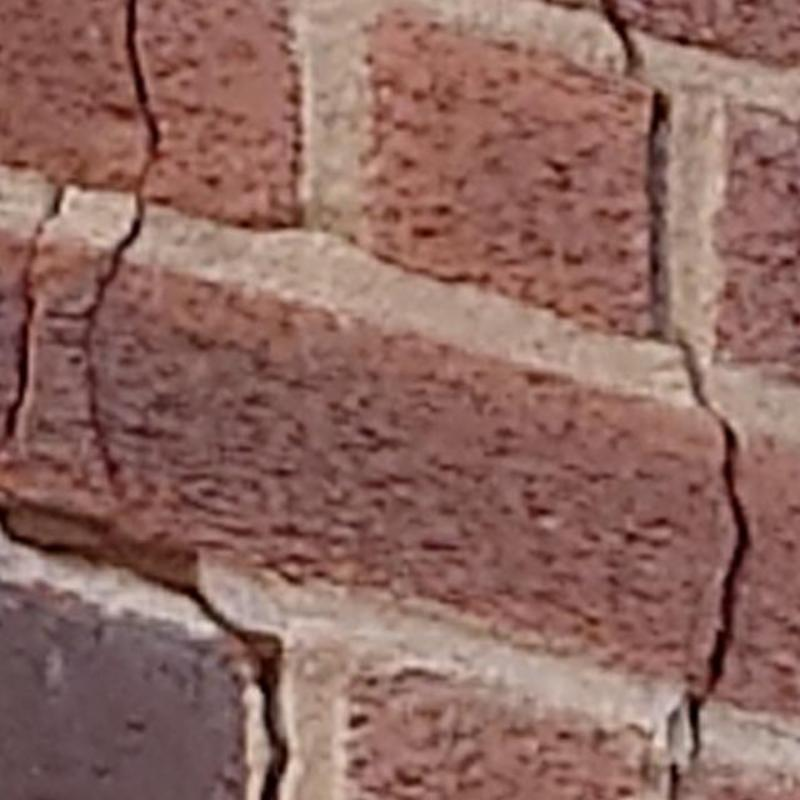pothole: (1, 507, 289, 800), (45, 0, 159, 488), (675, 338, 750, 762), (6, 188, 63, 437), (648, 89, 670, 337), (601, 0, 642, 76), (669, 762, 681, 799)
